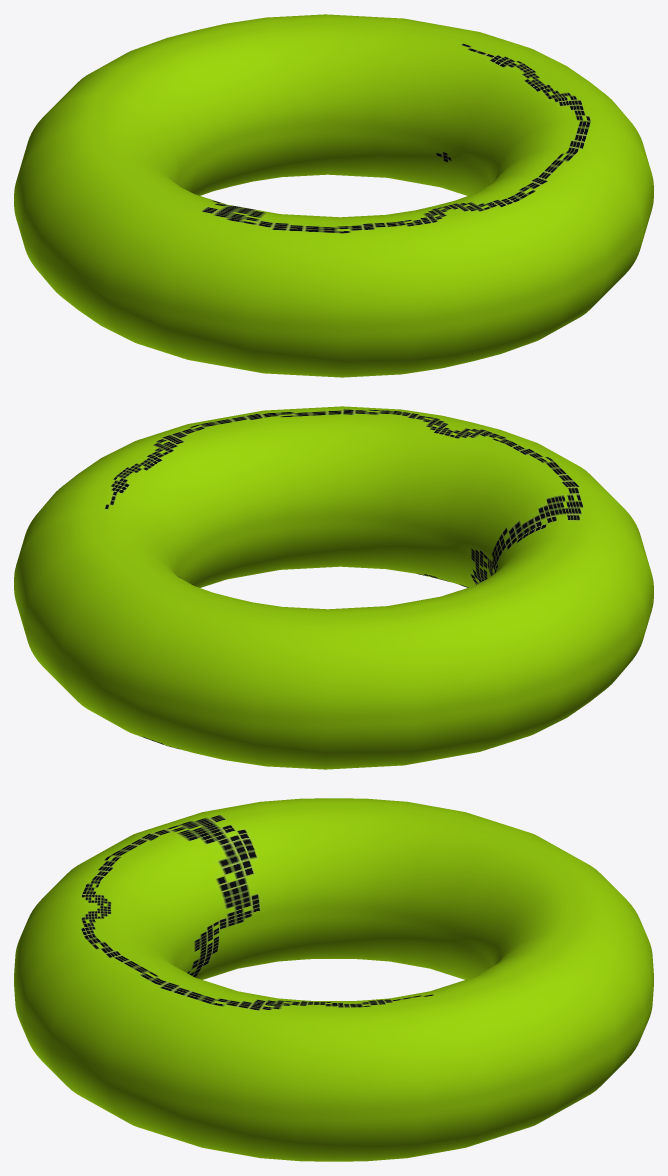
The picture shows the model from 3 angles, top to bottom: view 1: azimuth 30°, elevation 25°; view 2: azimuth 150°, elevation 25°; view 3: azimuth 270°, elevation 25°; orthographic projection.
Visible parts, largest first — view 1: SurfTorus; view 2: SurfTorus; view 3: SurfTorus.
Boxes of the visible parts, x1=… form: SurfTorus: x1=14, y1=14, x2=653, y2=377; SurfTorus: x1=14, y1=406, x2=653, y2=769; SurfTorus: x1=14, y1=798, x2=653, y2=1161.
Size of the model in its own units: 11.91 by 2.98 by 11.91.
1 material, 1 textured.
